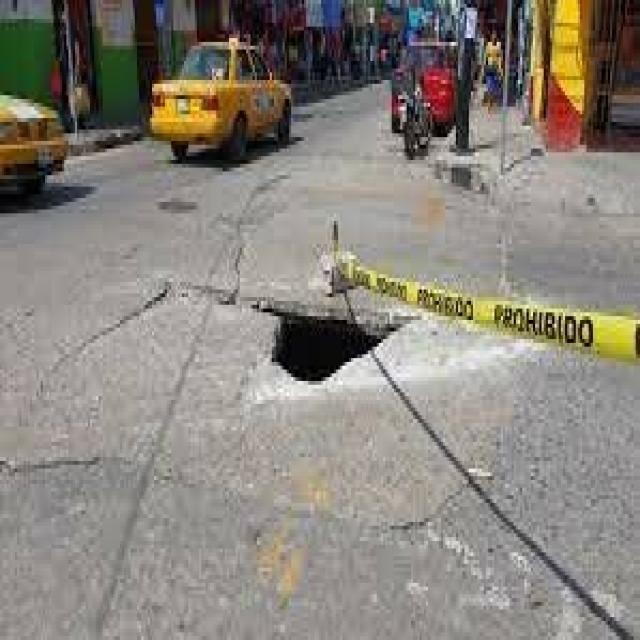Pothole: (214, 232, 482, 458)
